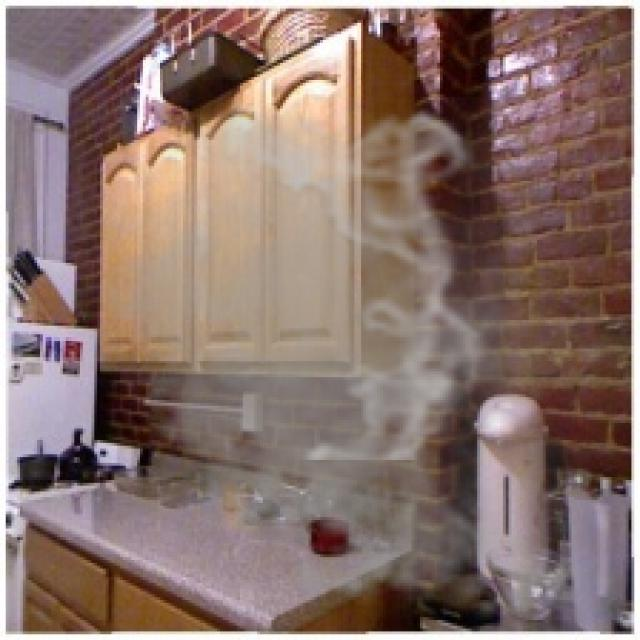smoke: (83, 97, 631, 637)
